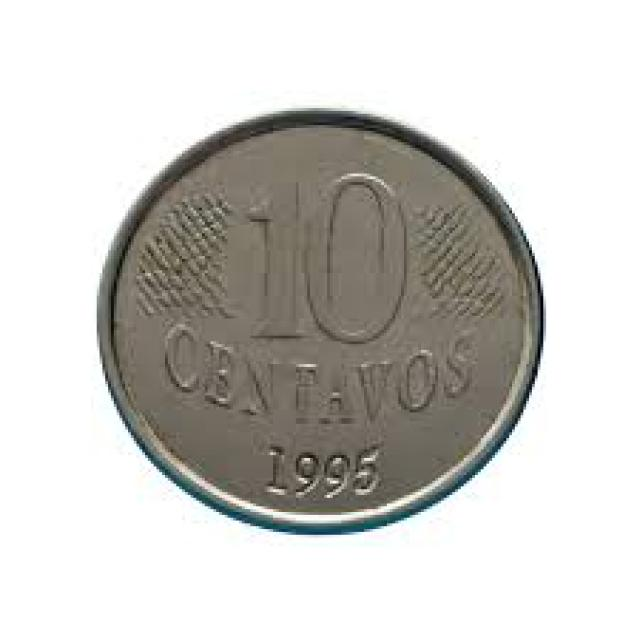10 cent: (99, 112, 544, 521)
